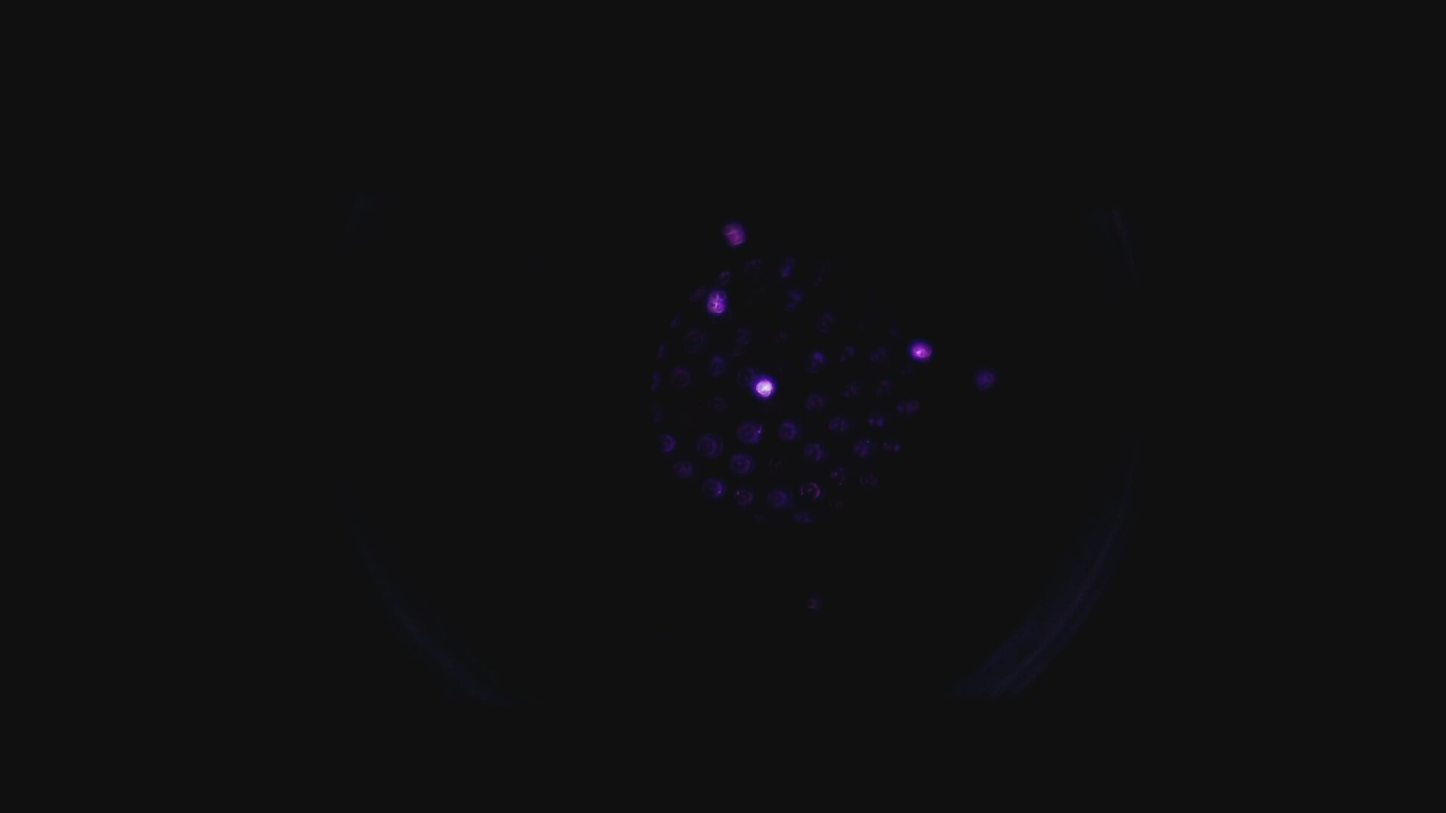plastic: (721, 220, 750, 250), (753, 376, 777, 400), (706, 290, 727, 314), (911, 341, 933, 361)
